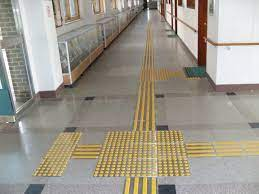guide_blocks: (98, 130, 189, 176), (34, 132, 78, 174), (193, 140, 259, 156), (135, 82, 155, 132), (125, 178, 158, 194), (141, 47, 155, 82), (75, 144, 100, 160), (145, 22, 154, 48)
